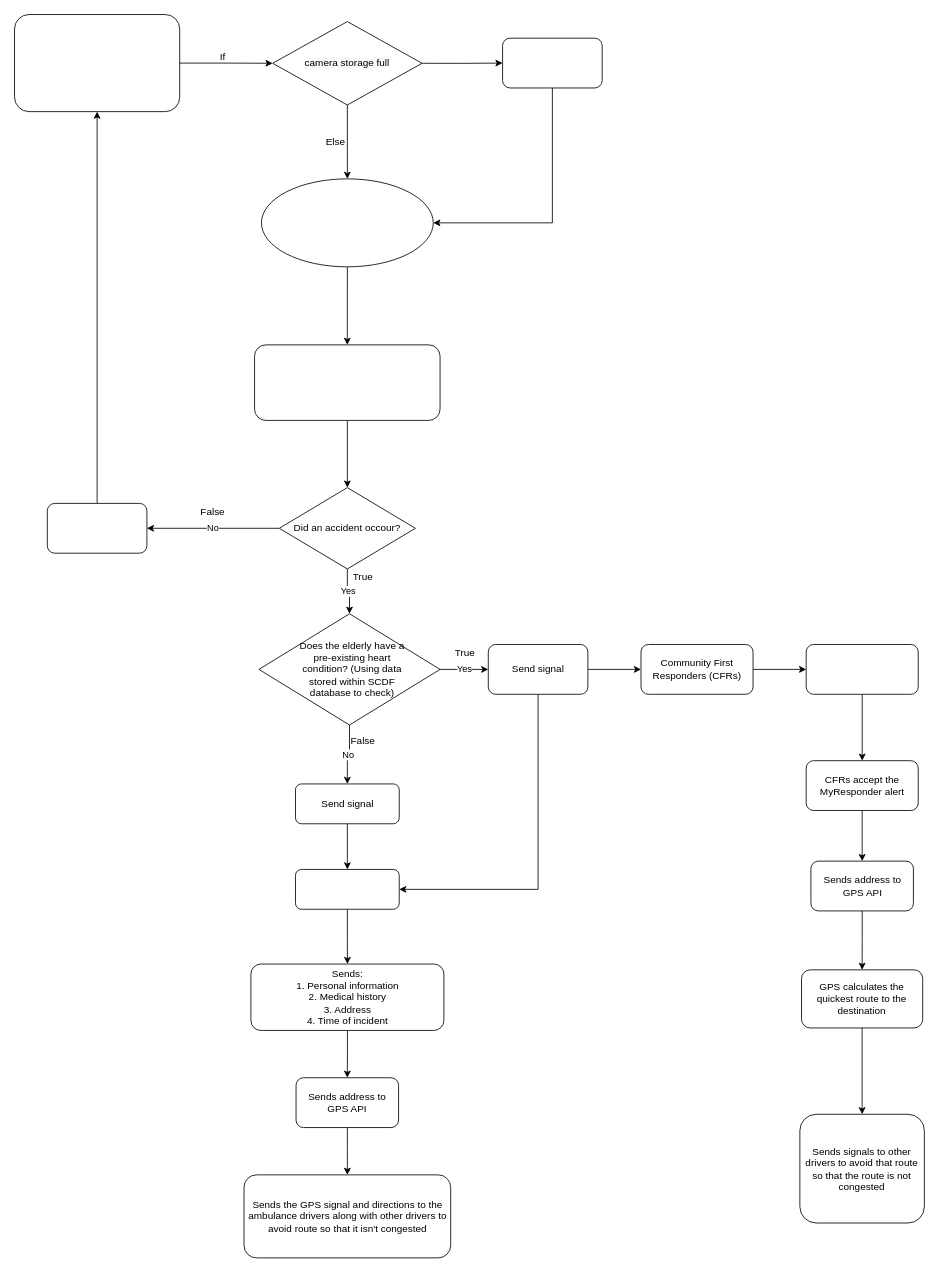
Some shapes in this 940 by 1272 pixel diagram are drawn without their labels. Each missing label, with the centre of its shape:
"Check if elderly is on the floor for images in a 2 minute time frame" goes at point (347, 382).
"Ignore" goes at point (96, 528).
"overwrite oldest images" goes at point (552, 62).
"SCDF (first responders)" goes at point (347, 889).
"Sends: 1. Address 2. Time of incident" goes at point (861, 669).
"Take Images of elderly house every 5 seconds" goes at point (97, 63).
"Using IBM Watson image recognition software" goes at point (347, 222).
